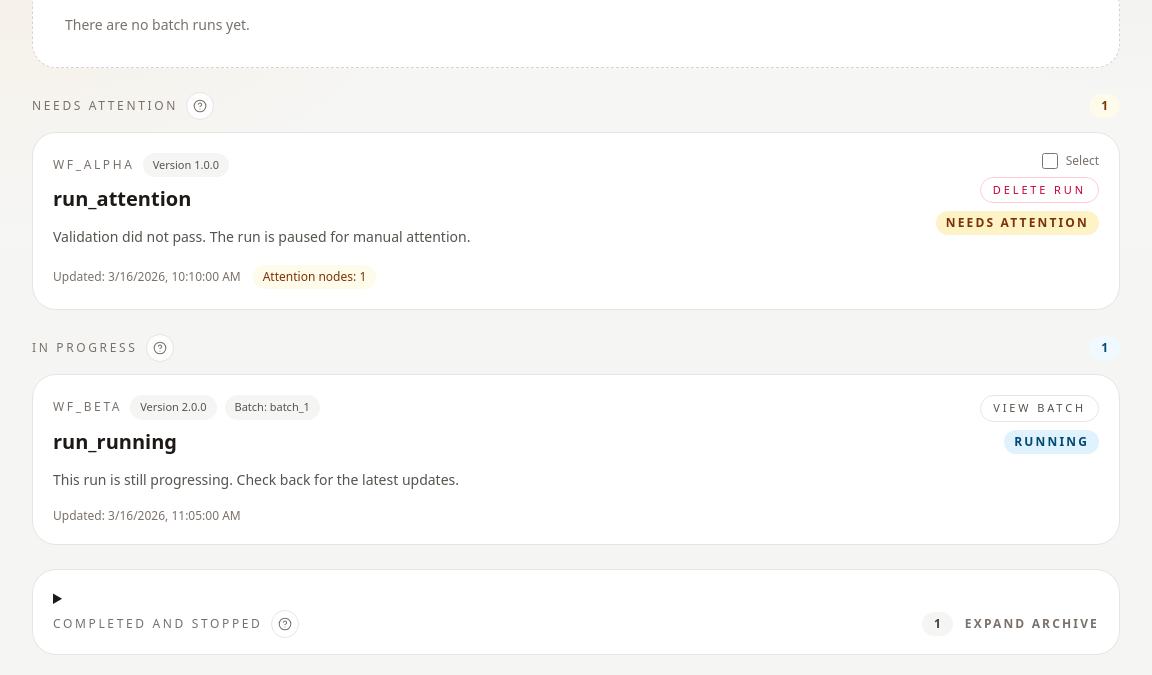
Test: RunsPage › groups runs by status and keeps archived runs collapsed by default
(page scrolled)
Expected: the heading "run_attention" is shown, [53, 185, 191, 212]
Expected: the heading "run_running" is shown, [53, 428, 177, 454]
Click the text "Expand archive" at (1032, 624), box [965, 616, 1099, 632]
(page scrolled)
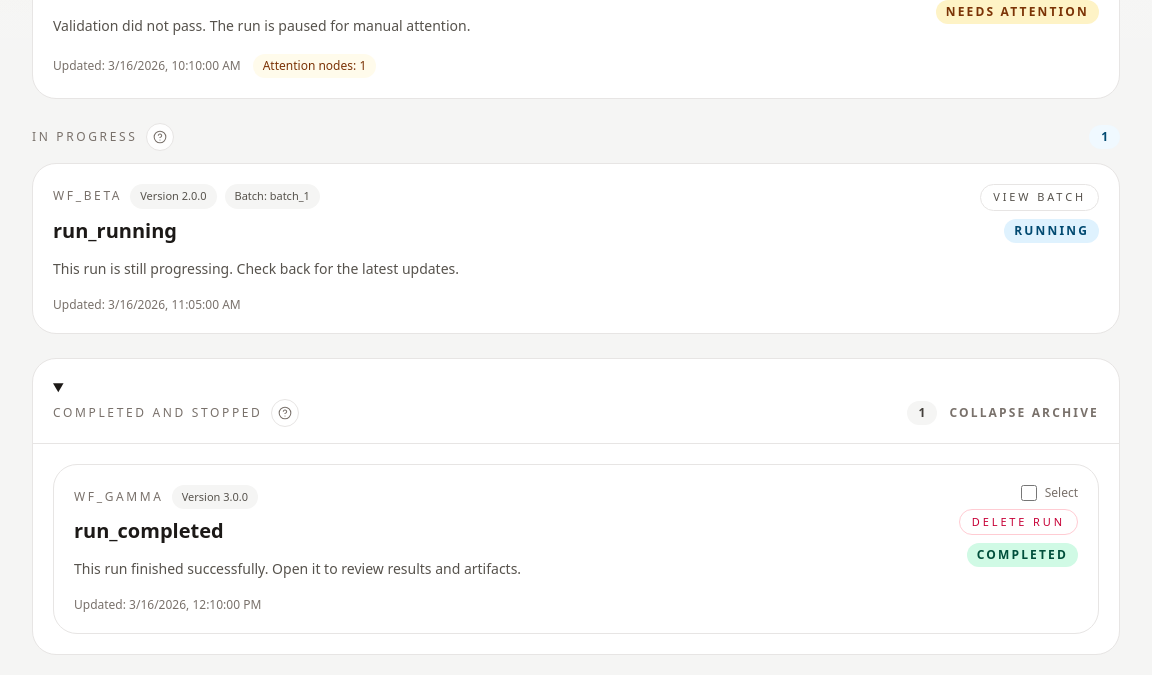
Expected: the heading "run_completed" is shown, [74, 517, 224, 544]
